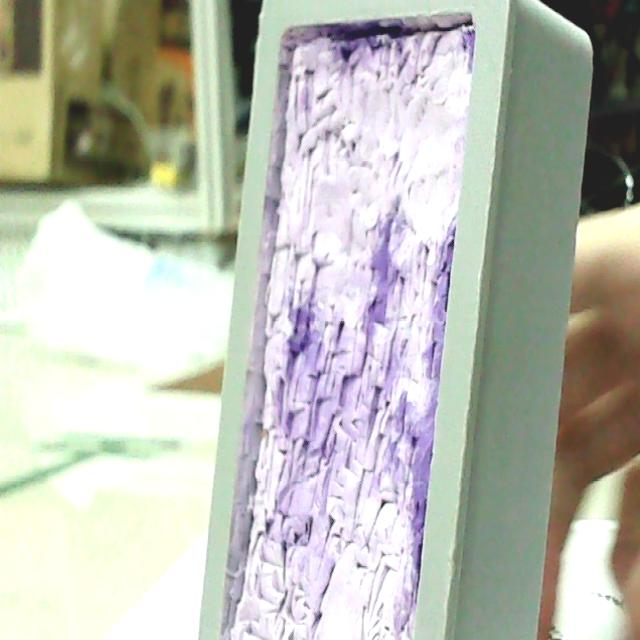block: (186, 0, 596, 640)
